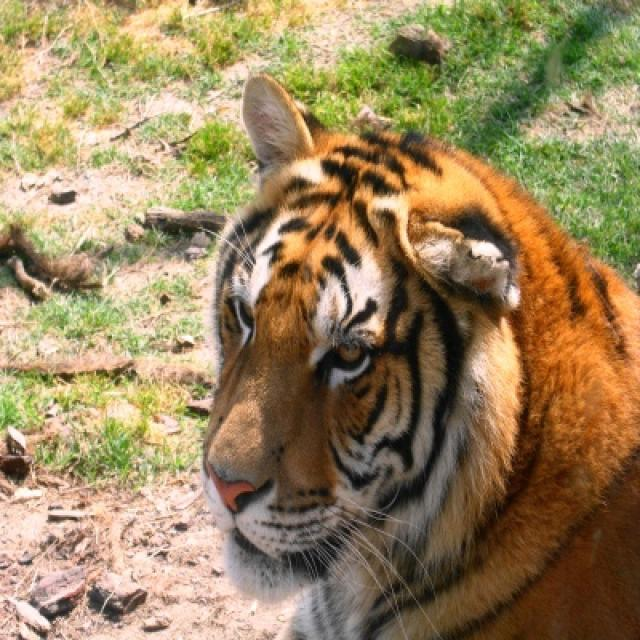Tiger: (203, 75, 638, 638)
